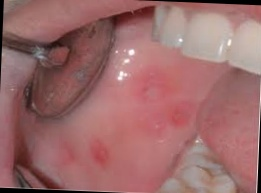Ulcer: (86, 130, 115, 172), (141, 81, 168, 105)
